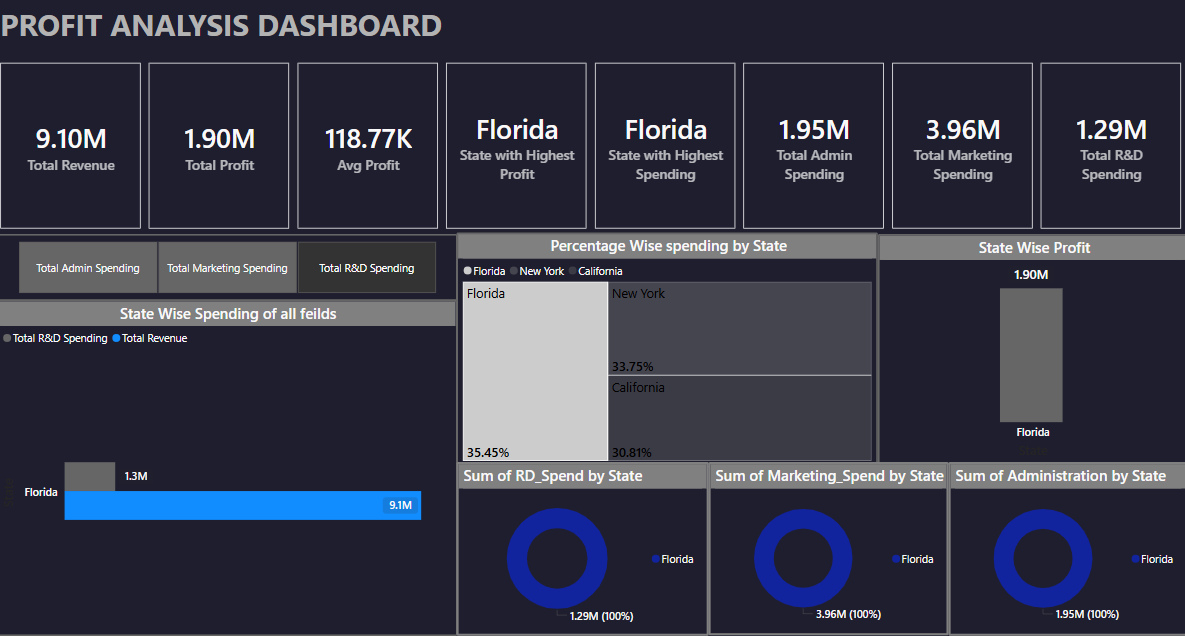

The page's visual inventory and layout, read from the dashboard file:
{"tool":"powerbi","page":{"name":"Page 1","canvas":[1500,800],"ordinal":0},"visuals":[{"type":"columnChart","title":"State Wise Profit","fields":{"Category":["profit analysis_1.State"],"Y":["Sum(profit analysis_1.Profit)"]},"box":[1110,294,390,290],"z":0},{"type":"clusteredBarChart","title":"State Wise Spending of all feilds","fields":{"Y":["profit analysis_1.Total Admin Spending","profit analysis_1.Total Marketing Spending","profit analysis_1.Total R&D Spending","profit analysis_1.Total Revenue"],"Category":["profit analysis_1.State"]},"box":[0,377.1,580,422.9],"z":1000},{"type":"cardVisual","fields":{"Data":["profit analysis_1.Revenue","profit analysis_1.Total Profit","profit analysis_1.Avg Profit","profit analysis_1.Highest Profit State","profit analysis_1.State with Highest Spending","profit analysis_1.Total Admin Spending","profit analysis_1.Total Marketing Spending","profit analysis_1.Total R&D Spending"]},"box":[0,98.3,1500,195],"z":2000},{"type":"treemap","title":"Percentage Wise spending by State","fields":{"Group":["profit analysis_1.State"],"Values":["profit analysis_1.total spending"]},"box":[580,293.3,530,295],"z":3000},{"type":"slicer","fields":{"Values":["Total profit by adminAMrketing_R&d.Total profit by adminAMrketing_R&d"]},"box":[0,294.3,580,84.3],"z":4000},{"type":"donutChart","fields":{"Category":["profit analysis_1.State"],"Y":["Sum(profit analysis_1.RD_Spend)"]},"box":[580,581.4,317,218.6],"z":5000},{"type":"donutChart","fields":{"Category":["profit analysis_1.State"],"Y":["Sum(profit analysis_1.Marketing_Spend)"]},"box":[896,582,302,218],"z":6000},{"type":"donutChart","fields":{"Category":["profit analysis_1.State"],"Y":["Sum(profit analysis_1.Administration)"]},"box":[1198.6,581.4,301.4,218.6],"z":7000},{"type":"textbox","box":[0,0,580,73.3],"z":8000}]}

Visuals, with their boxes in screenshot pixels (x1, y1, x2, y2), scaled from the page's 1500x800 canvas onto the 1185x636 screenshot:
"State Wise Profit" columnChart: detection(877, 234, 1184, 464)
"State Wise Spending of all feilds" clusteredBarChart: detection(0, 300, 458, 635)
cardVisual - profit analysis_1.Revenue x profit analysis_1.Total Profit: detection(0, 78, 1184, 233)
"Percentage Wise spending by State" treemap: detection(458, 233, 877, 468)
slicer - Total profit by adminAMrketing_R&d.Total profit by adminAMrketing_R&d: detection(0, 234, 458, 301)
donutChart - profit analysis_1.State x Sum(profit analysis_1.RD_Spend): detection(458, 462, 709, 635)
donutChart - profit analysis_1.State x Sum(profit analysis_1.Marketing_Spend): detection(708, 463, 946, 635)
donutChart - profit analysis_1.State x Sum(profit analysis_1.Administration): detection(947, 462, 1184, 635)
textbox: detection(0, 0, 458, 58)
